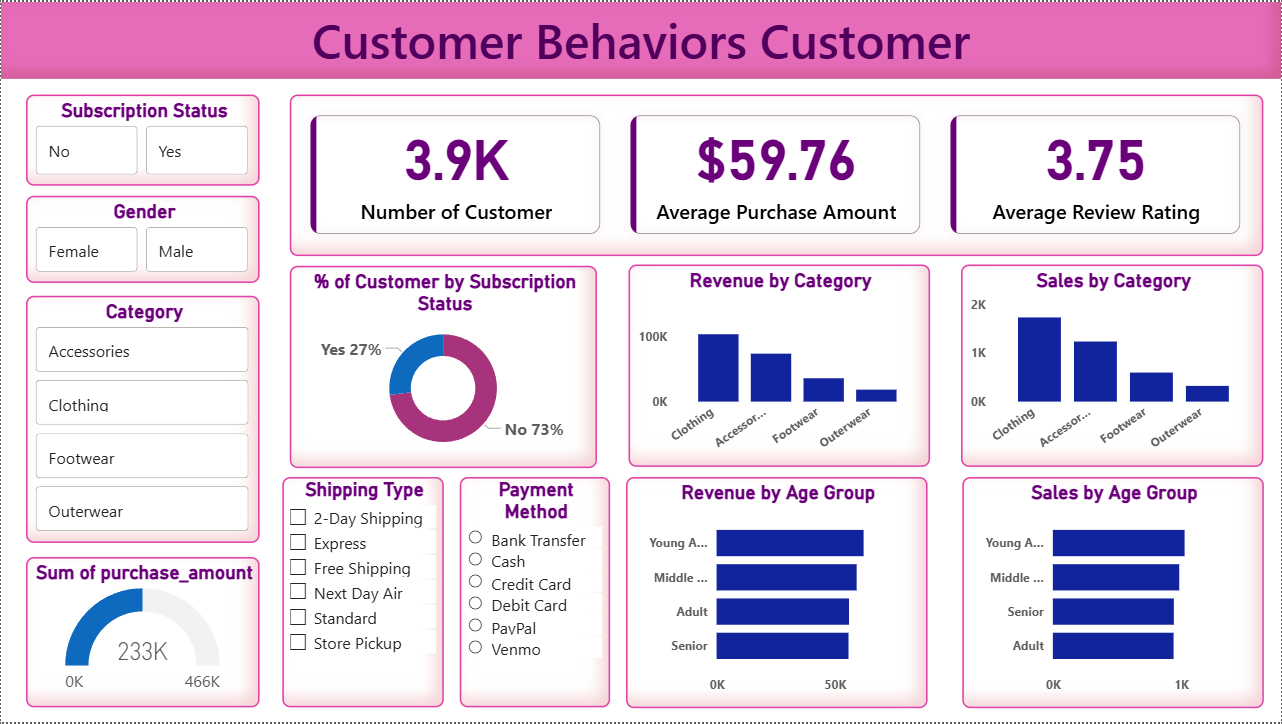

The page's visual inventory and layout, read from the dashboard file:
{"tool":"powerbi","page":{"name":"Page 1","canvas":[1280,720],"ordinal":0},"visuals":[{"type":"cardVisual","fields":{"Data":["customer_behaviours customer.Number of Customer","customer_behaviours customer.Average Purchase Amount","customer_behaviours customer.Average Review Rating"]},"box":[288.8,92.5,973.8,161.2],"z":0},{"type":"textbox","box":[0,0,1280,77.1],"z":1000},{"type":"donutChart","title":"% of Customer by Subscription Status","fields":{"Category":["customer_behaviours customer.subscription_status"],"Y":["CountNonNull(customer_behaviours customer.customer_id)"]},"box":[288.8,263.8,307.5,202.5],"z":2000},{"type":"clusteredColumnChart","title":"Revenue by Category","fields":{"Y":["Sum(customer_behaviours customer.purchase_amount)"],"Category":["customer_behaviours customer.category"]},"box":[627.5,262.5,301.2,202.5],"z":3000},{"type":"clusteredColumnChart","title":"Sales by Category","fields":{"Y":["CountNonNull(customer_behaviours customer.customer_id)"],"Category":["customer_behaviours customer.category"]},"box":[960,262.5,302.5,202.5],"z":4000},{"type":"advancedSlicerVisual","fields":{"Values":["customer_behaviours customer.subscription_status"]},"box":[24.9,92.1,233.9,90.8],"z":5000},{"type":"advancedSlicerVisual","fields":{"Values":["customer_behaviours customer.gender"]},"box":[24.9,194.1,233.9,87.1],"z":6000},{"type":"advancedSlicerVisual","title":"Category","fields":{"Values":["customer_behaviours customer.category"]},"box":[24.9,293.6,233.9,247.5],"z":7000},{"type":"listSlicer","fields":{"Values":["customer_behaviours customer.shipping_type"]},"box":[281.2,475,161.2,230],"z":8000},{"type":"clusteredBarChart","title":"Revenue by Age Group","fields":{"Category":["customer_behaviours customer.age_group"],"Y":["Sum(customer_behaviours customer.purchase_amount)"]},"box":[625,475,301.2,231.2],"z":9000},{"type":"clusteredBarChart","title":"Sales by Age Group","fields":{"Category":["customer_behaviours customer.age_group"],"Y":["CountNonNull(customer_behaviours customer.customer_id)"]},"box":[961.2,475,301.2,231.2],"z":10000},{"type":"gauge","fields":{"Y":["Sum(customer_behaviours customer.purchase_amount)"]},"box":[24.9,554.8,233.9,150.5],"z":11000},{"type":"listSlicer","fields":{"Values":["customer_behaviours customer.payment_method"]},"box":[458.8,475,150,230],"z":12000}]}

Visuals, with their boxes in screenshot pixels (x1, y1, x2, y2), scaled from the page's 1280x720 canvas onto the 1282x724 screenshot:
cardVisual - customer_behaviours customer.Number of Customer x customer_behaviours customer.Average Purchase Amount: 289 93 1265 255
textbox: 0 0 1281 78
"% of Customer by Subscription Status" donutChart: 289 265 597 469
"Revenue by Category" clusteredColumnChart: 628 264 930 468
"Sales by Category" clusteredColumnChart: 961 264 1264 468
advancedSlicerVisual - customer_behaviours customer.subscription_status: 25 93 259 184
advancedSlicerVisual - customer_behaviours customer.gender: 25 195 259 283
"Category" advancedSlicerVisual: 25 295 259 544
listSlicer - customer_behaviours customer.shipping_type: 282 478 443 709
"Revenue by Age Group" clusteredBarChart: 626 478 928 710
"Sales by Age Group" clusteredBarChart: 963 478 1264 710
gauge - Sum(customer_behaviours customer.purchase_amount): 25 558 259 709
listSlicer - customer_behaviours customer.payment_method: 460 478 610 709
